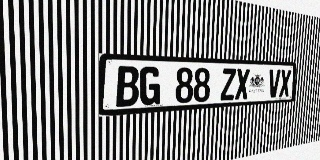8: (175, 67, 194, 103), (193, 68, 211, 102)
B: (116, 66, 139, 107)
G: (139, 66, 161, 106)
V: (268, 69, 281, 98)
X: (235, 69, 250, 100), (279, 70, 291, 97)
Z: (220, 68, 236, 101)
